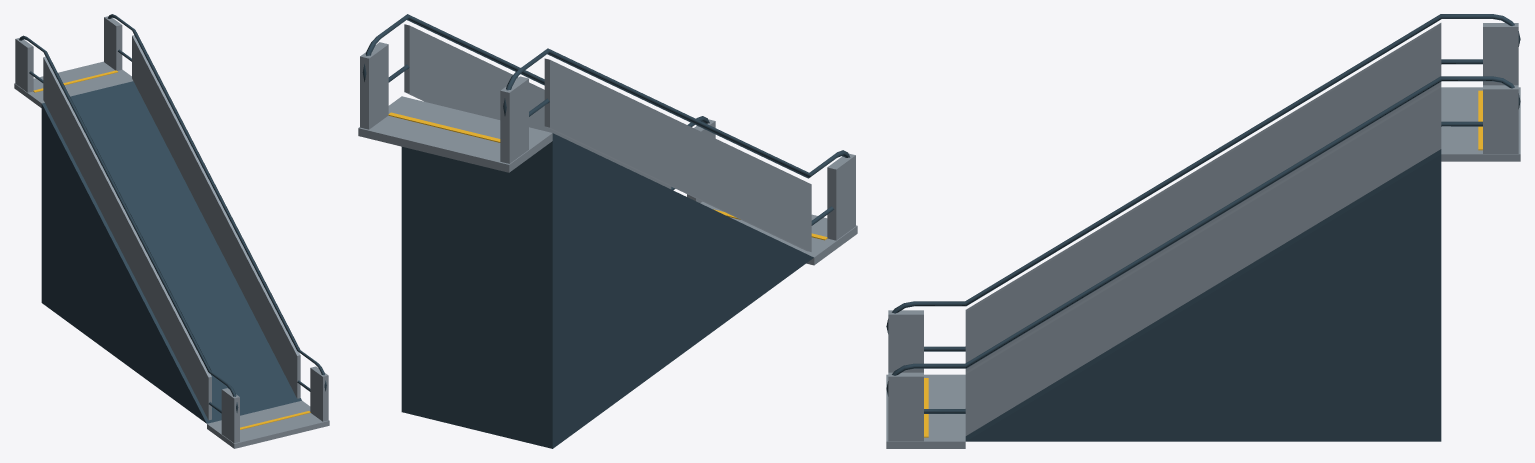
File: escalator-entrance.v1.low.glb
The picture shows the model from 3 angles, left to right: view 1: azimuth 30°, elevation 25°; view 2: azimuth 150°, elevation 25°; view 3: azimuth 270°, elevation 25°; orthographic projection. The views are drawn at different scales.
Visible parts, largest first — view 1: mesh_flight_low, mesh_balustrade_-0.93, mesh_balustrade_0.93, mesh_lower_landing, mesh_upper_landing, mesh_handrail_belt_0.93, mesh_handrail_belt_-0.93, mesh_end_casing_-0.93_-7.25, mesh_end_casing_-0.93_0.25, mesh_end_casing_0.93_-7.25, mesh_end_casing_0.93_0.25; view 2: mesh_flight_low, mesh_balustrade_-0.93, mesh_balustrade_0.93, mesh_upper_landing, mesh_handrail_belt_-0.93, mesh_end_casing_-0.93_0.25, mesh_end_casing_-0.93_-7.25, mesh_end_casing_0.93_-7.25, mesh_handrail_belt_0.93, mesh_lower_landing, mesh_comb_plate_-7; view 3: mesh_flight_low, mesh_balustrade_0.93, mesh_balustrade_-0.93, mesh_handrail_belt_0.93, mesh_handrail_belt_-0.93, mesh_upper_landing, mesh_lower_landing, mesh_end_casing_0.93_0.25, mesh_end_casing_0.93_-7.25, mesh_end_casing_-0.93_0.25, mesh_end_casing_-0.93_-7.25.
Boxes of the visible parts, left/top/right/bottom form: mesh_flight_low: left=41, top=81, right=301, bottom=423; mesh_balustrade_-0.93: left=43, top=56, right=211, bottom=420; mesh_balustrade_0.93: left=132, top=35, right=300, bottom=398; mesh_lower_landing: left=207, top=400, right=329, bottom=448; mesh_upper_landing: left=14, top=61, right=132, bottom=107; mesh_handrail_belt_0.93: left=107, top=14, right=326, bottom=391; mesh_handrail_belt_-0.93: left=19, top=35, right=238, bottom=413; mesh_end_casing_-0.93_-7.25: left=15, top=38, right=33, bottom=92; mesh_end_casing_-0.93_0.25: left=221, top=388, right=239, bottom=443; mesh_end_casing_0.93_-7.25: left=104, top=16, right=122, bottom=70; mesh_end_casing_0.93_0.25: left=310, top=366, right=328, bottom=421; mesh_flight_low: left=401, top=133, right=813, bottom=448; mesh_balustrade_-0.93: left=544, top=58, right=811, bottom=251; mesh_balustrade_0.93: left=404, top=24, right=671, bottom=189; mesh_upper_landing: left=358, top=96, right=552, bottom=172; mesh_handrail_belt_-0.93: left=503, top=48, right=850, bottom=225; mesh_end_casing_-0.93_0.25: left=827, top=153, right=855, bottom=240; mesh_end_casing_-0.93_-7.25: left=500, top=76, right=528, bottom=163; mesh_end_casing_0.93_-7.25: left=360, top=42, right=388, bottom=129; mesh_handrail_belt_0.93: left=362, top=14, right=709, bottom=190; mesh_lower_landing: left=700, top=201, right=857, bottom=265; mesh_comb_plate_-7: left=388, top=112, right=500, bottom=142; mesh_flight_low: left=965, top=149, right=1441, bottom=441; mesh_balustrade_0.93: left=965, top=85, right=1441, bottom=435; mesh_balustrade_-0.93: left=965, top=23, right=1441, bottom=371; mesh_handrail_belt_0.93: left=886, top=76, right=1520, bottom=413; mesh_handrail_belt_-0.93: left=886, top=14, right=1520, bottom=351; mesh_upper_landing: left=1441, top=87, right=1520, bottom=161; mesh_lower_landing: left=886, top=374, right=965, bottom=448; mesh_end_casing_0.93_0.25: left=888, top=372, right=923, bottom=441; mesh_end_casing_0.93_-7.25: left=1483, top=85, right=1518, bottom=153; mesh_end_casing_-0.93_0.25: left=888, top=310, right=923, bottom=372; mesh_end_casing_-0.93_-7.25: left=1483, top=23, right=1518, bottom=85.
Bounding box in the file's own units: 2 × 5.15 × 8.
